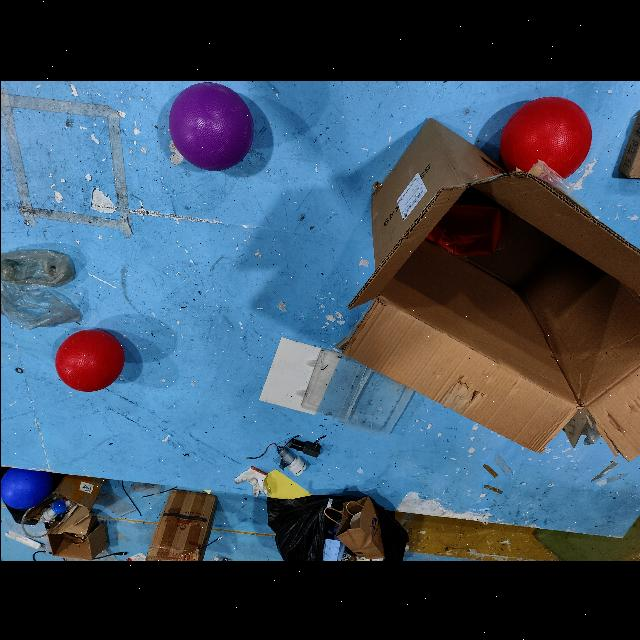B: (0, 458, 54, 510)
P: (168, 81, 252, 171)
R: (498, 96, 592, 184), (54, 326, 124, 392)
